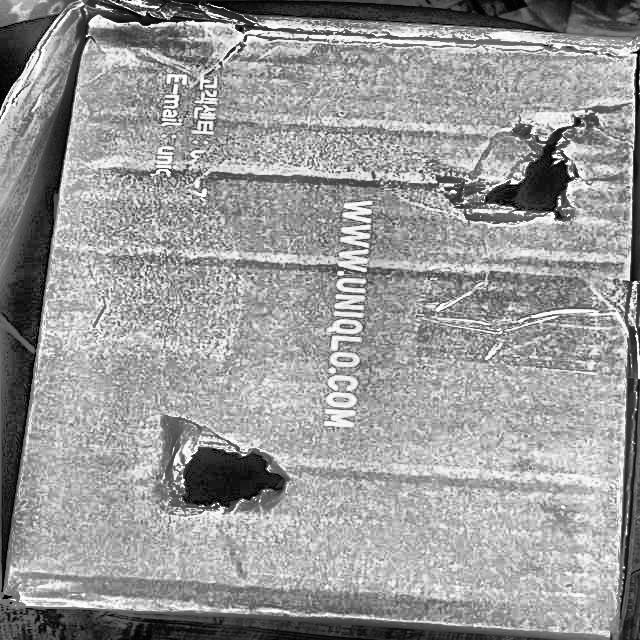box: (1, 0, 639, 639)
hole: (459, 103, 599, 233), (161, 422, 299, 520)
